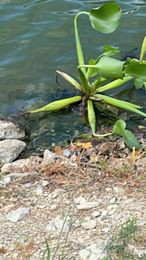water_hyacinth: (22, 3, 145, 148)
